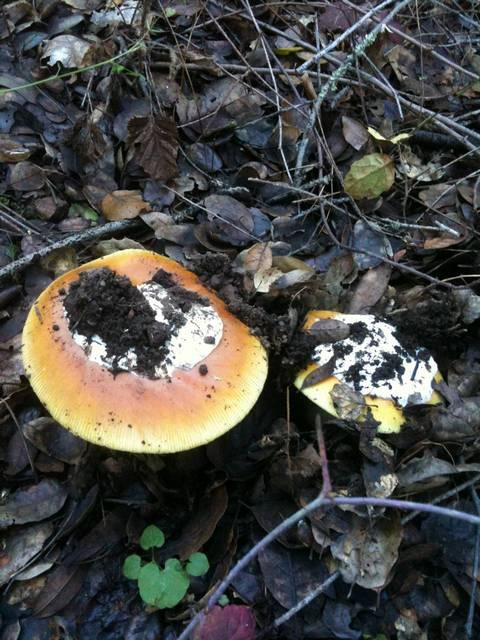edible_mushroom: (20, 247, 269, 456), (283, 307, 447, 435)
